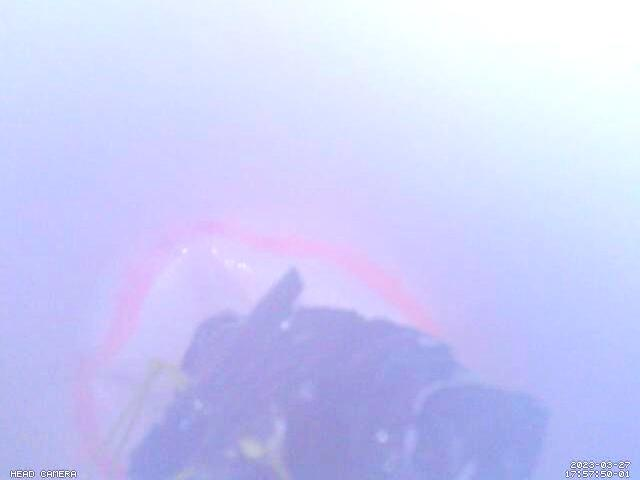head: (70, 215, 446, 480)
